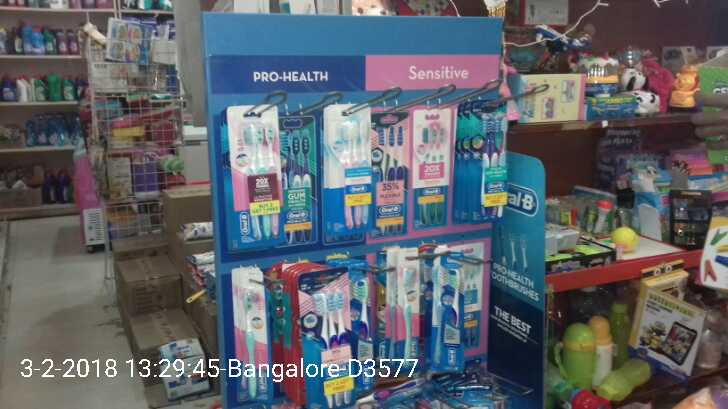oralb: (228, 107, 284, 242), (322, 103, 373, 231), (372, 112, 408, 233), (471, 99, 504, 221), (437, 250, 465, 372)
